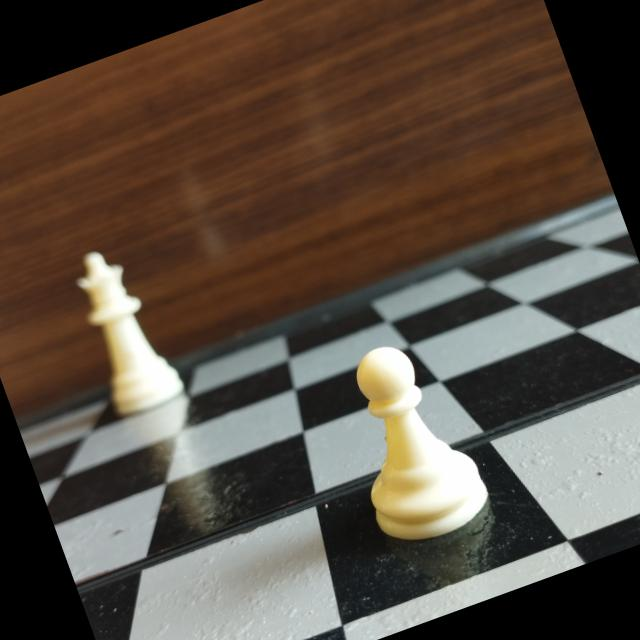White Pawn: (316, 322, 508, 562)
White Queen: (57, 230, 194, 428)
